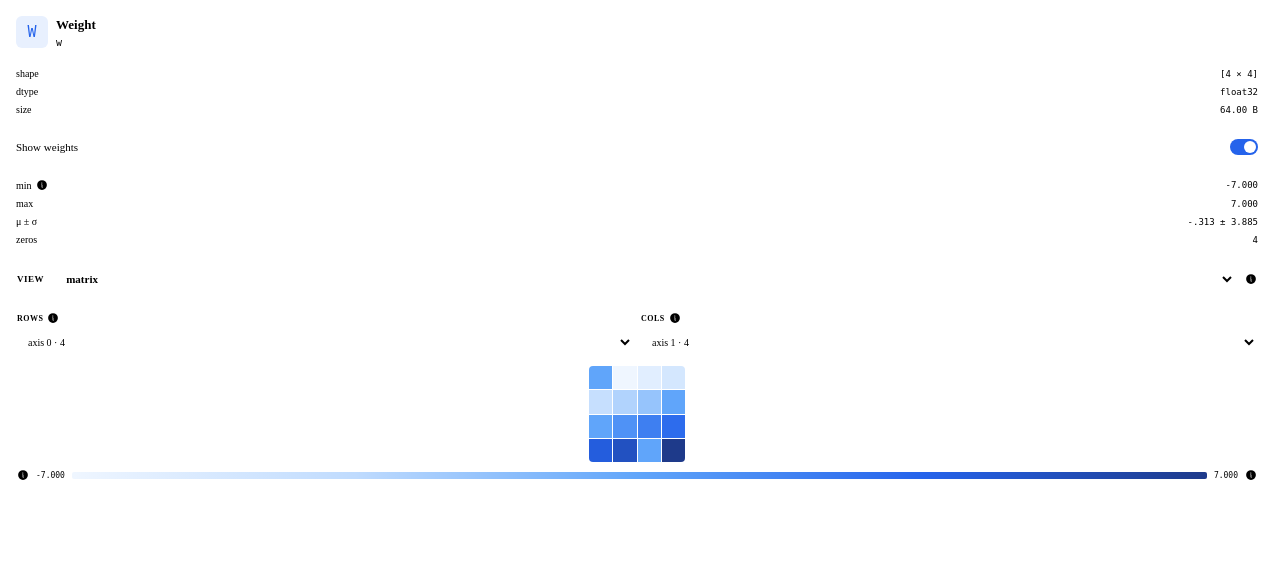
distribution separates non-finite counts from percentiles
Select "distribution" in the dropdown named "Weight inspector" at (645, 279), box [54,264,1235,294]
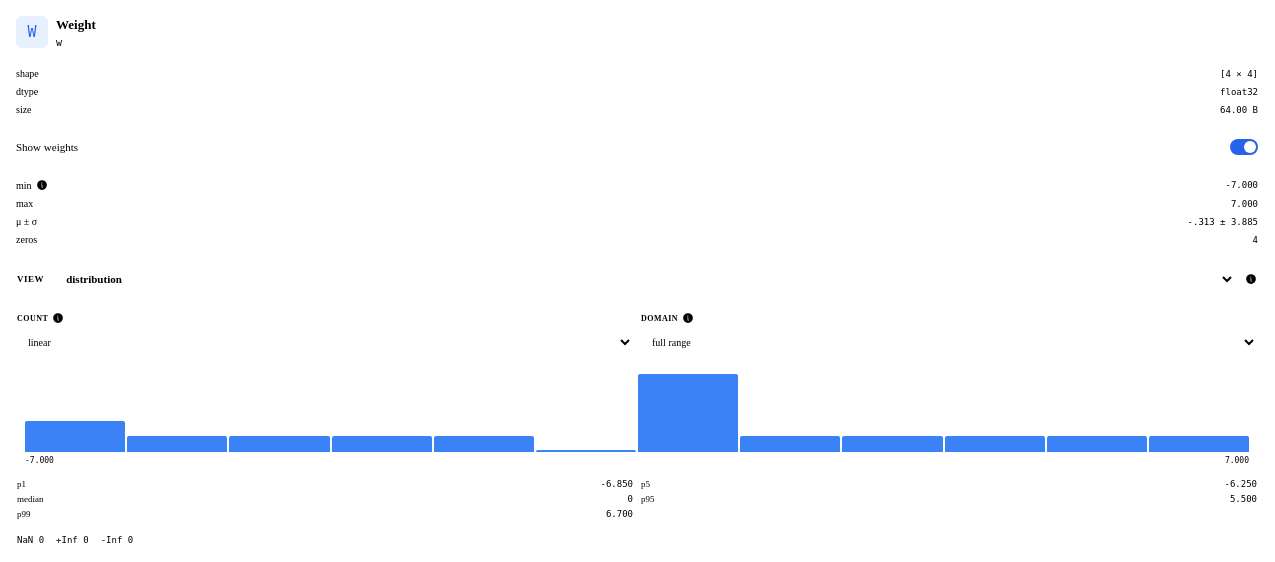
expect the element with test id "non-finite" shows "NaN": met, box [17,535,33,545]
